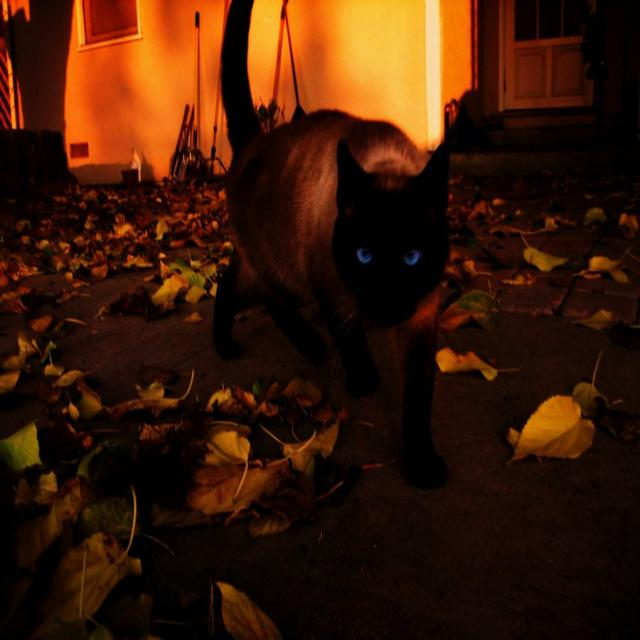Cat: (207, 0, 478, 548)
